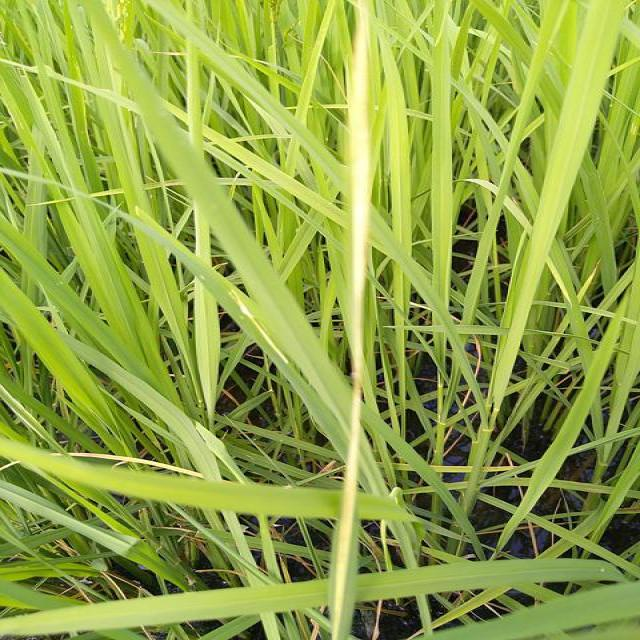Leaf Blight: (332, 4, 379, 639)
